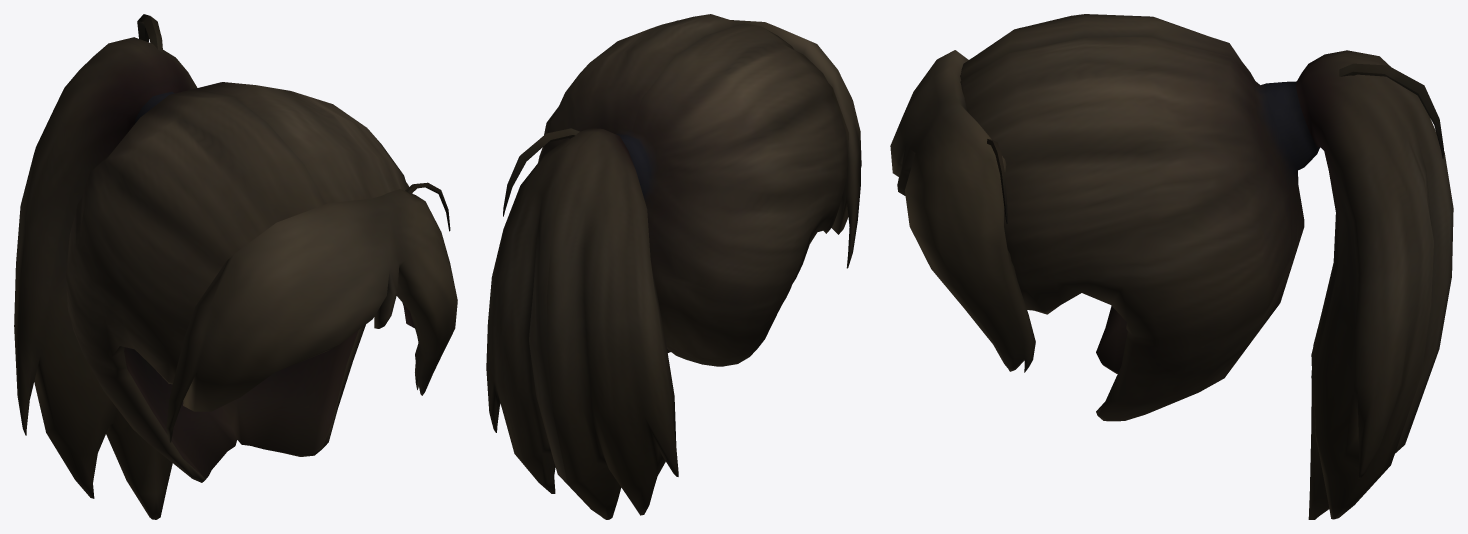
3 views of the same model, side by side, from view 1: azimuth 30°, elevation 25°; view 2: azimuth 150°, elevation 25°; view 3: azimuth 270°, elevation 25° (orthographic). The views are drawn at different scales.
Parts seen in each view (by area): view 1: H_Q3_F_Hr_5000; view 2: H_Q3_F_Hr_5000; view 3: H_Q3_F_Hr_5000.
Part boxes in pixels (x1,y1,x2,y2): H_Q3_F_Hr_5000: (14, 14, 457, 519); H_Q3_F_Hr_5000: (486, 14, 861, 519); H_Q3_F_Hr_5000: (890, 14, 1453, 519).
Bounding box in the file's own units: 24.63 × 40.73 × 38.78.
